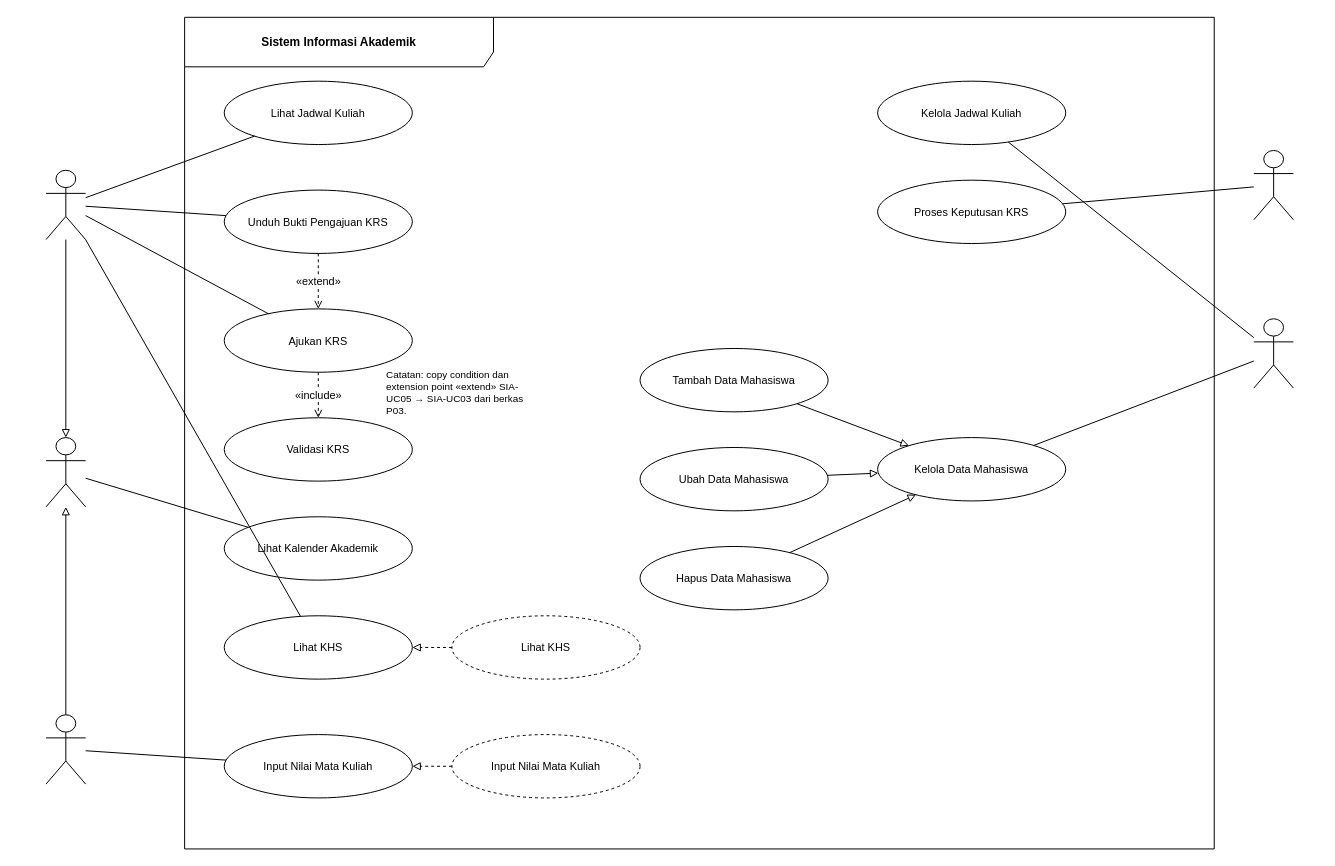
Image size: 1335x866. Some labels were removed from this diagram. The shapes that lost their labels are listed below. From the top down, each one's centre as x and y in pixels, then its label:
At [65,204]: "Mahasiswa".
At [1273,184]: "Dosen Wali".
At [1273,353]: "Admin Akademik".
At [65,472]: "Civitas Akademika".
At [65,749]: "Dosen".
